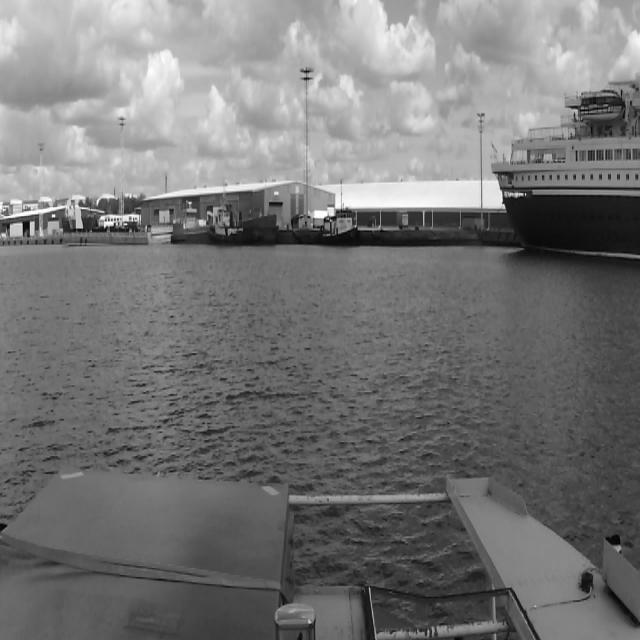ship: (492, 71, 640, 261), (208, 200, 278, 250), (322, 209, 358, 247)
